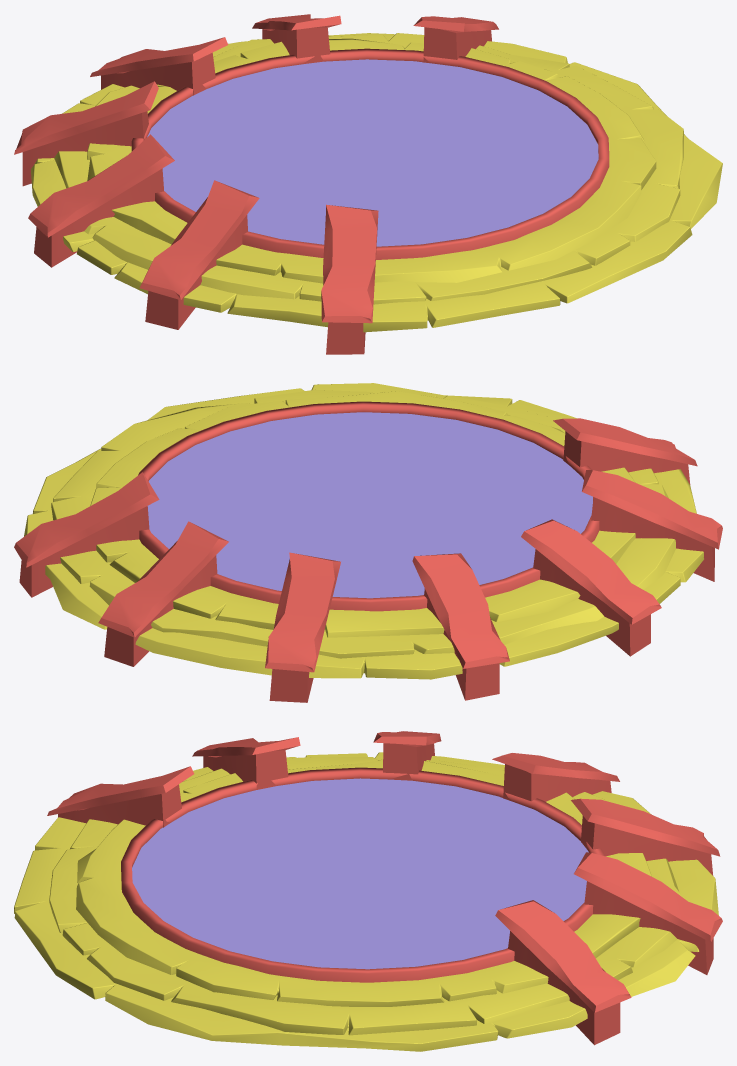
File: Altar.fbx
3 renders of one model, top to bottom at view 1: azimuth 30°, elevation 25°; view 2: azimuth 150°, elevation 25°; view 3: azimuth 270°, elevation 25°, orthographic. The views are drawn at different scales.
Visible parts, largest first — view 1: Altar; view 2: Altar; view 3: Altar.
Part boxes in pixels (x1,y1,x2,y2): Altar: (14, 14, 722, 354); Altar: (14, 383, 722, 702); Altar: (14, 731, 722, 1051).
Size of the model in its own units: 885 by 133 by 882.
